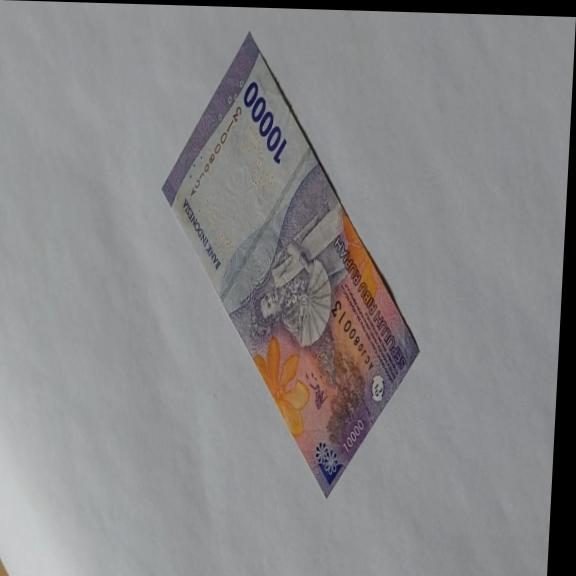Kertas: (145, 28, 437, 501), (239, 79, 291, 166)
